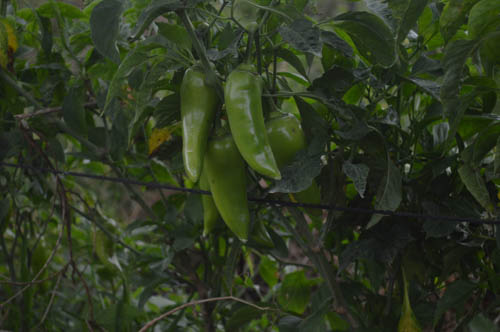ChiliPepper: (226, 71, 281, 180), (267, 116, 325, 215), (209, 137, 255, 239), (176, 70, 208, 182), (189, 152, 215, 239)
